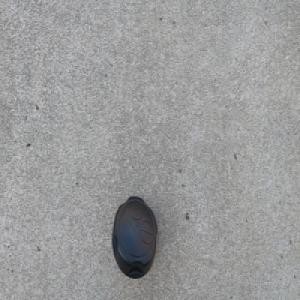FuelCap: (110, 192, 158, 281)
